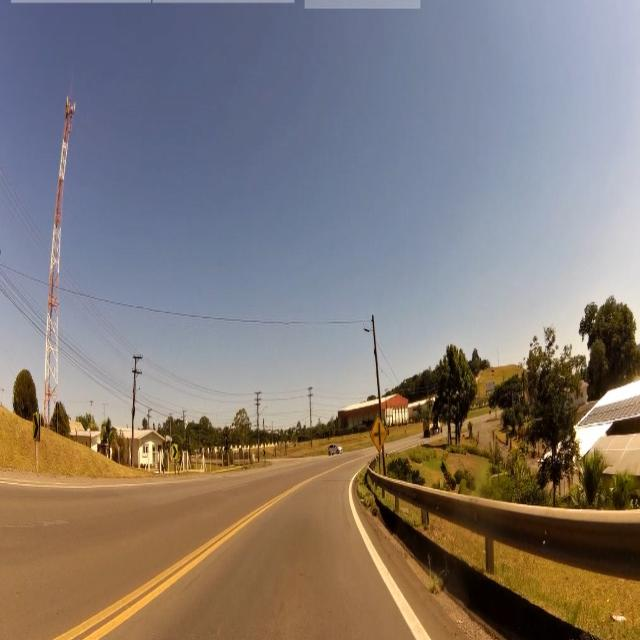A-7a: (370, 415, 388, 454)
